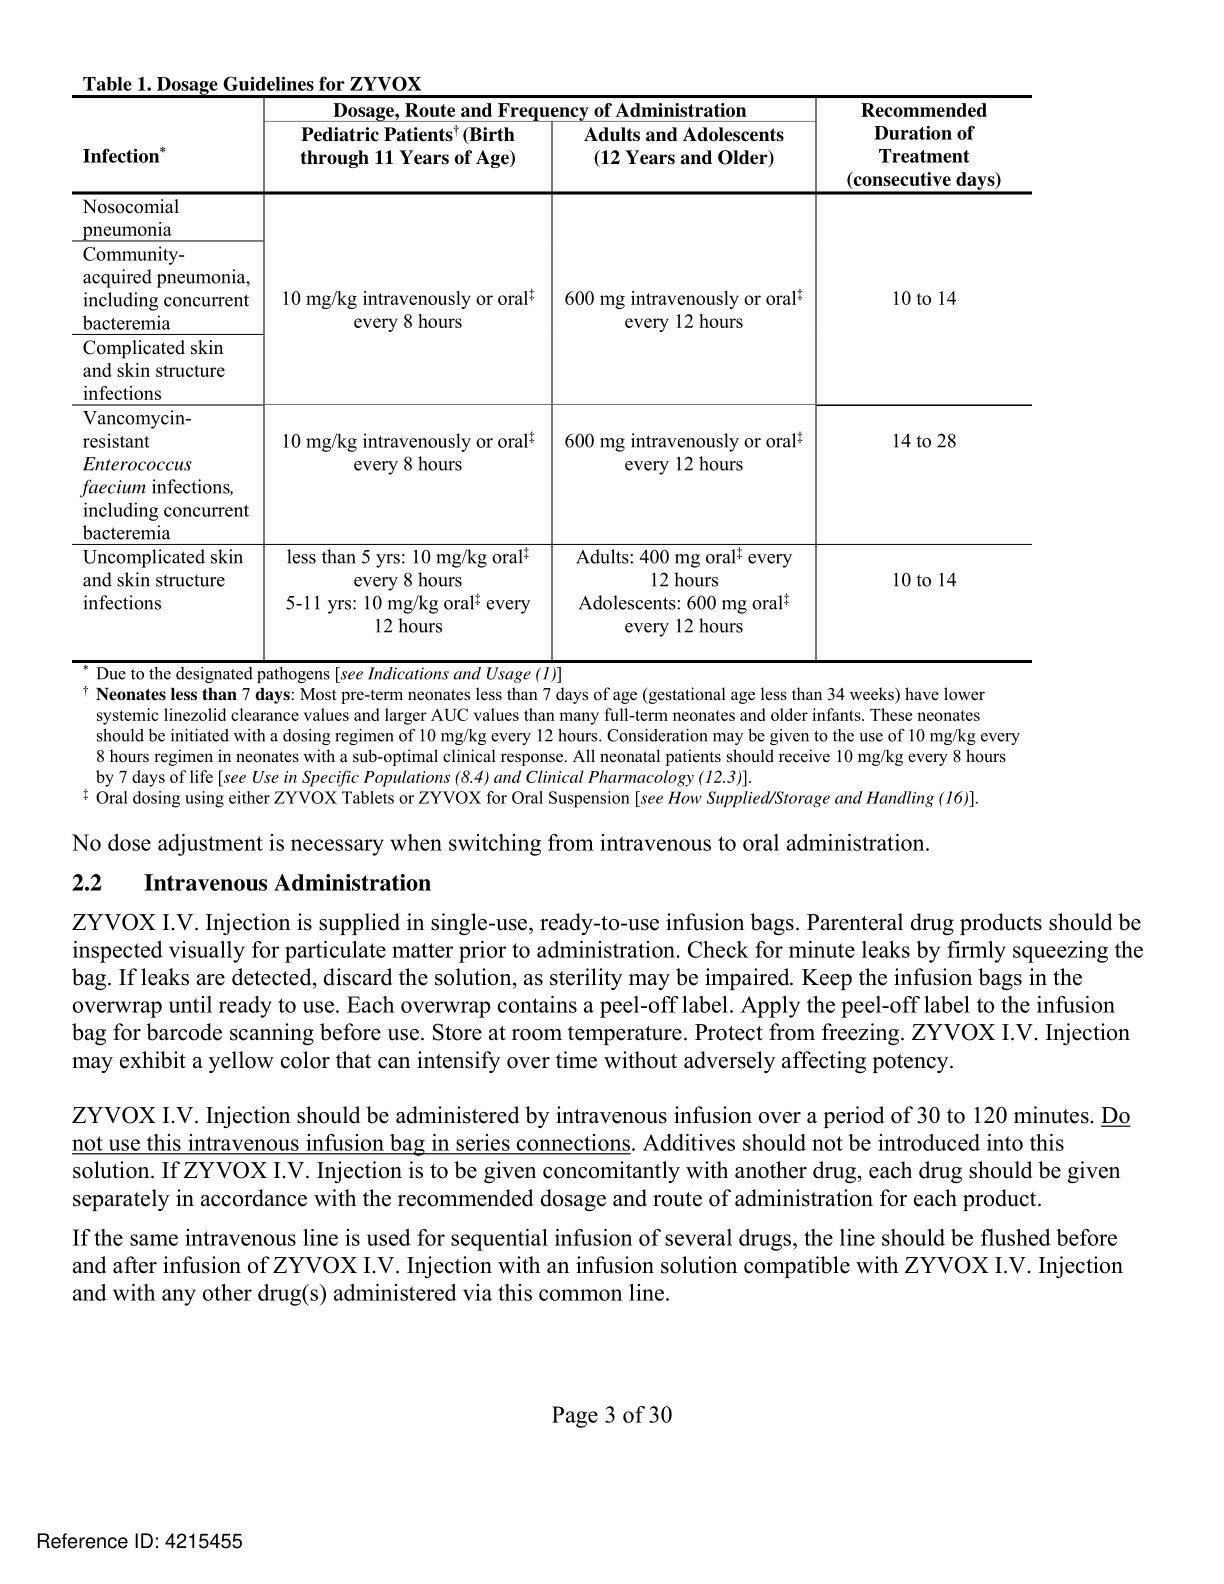partial_lined_merged_cells: (73, 93, 1036, 665)
